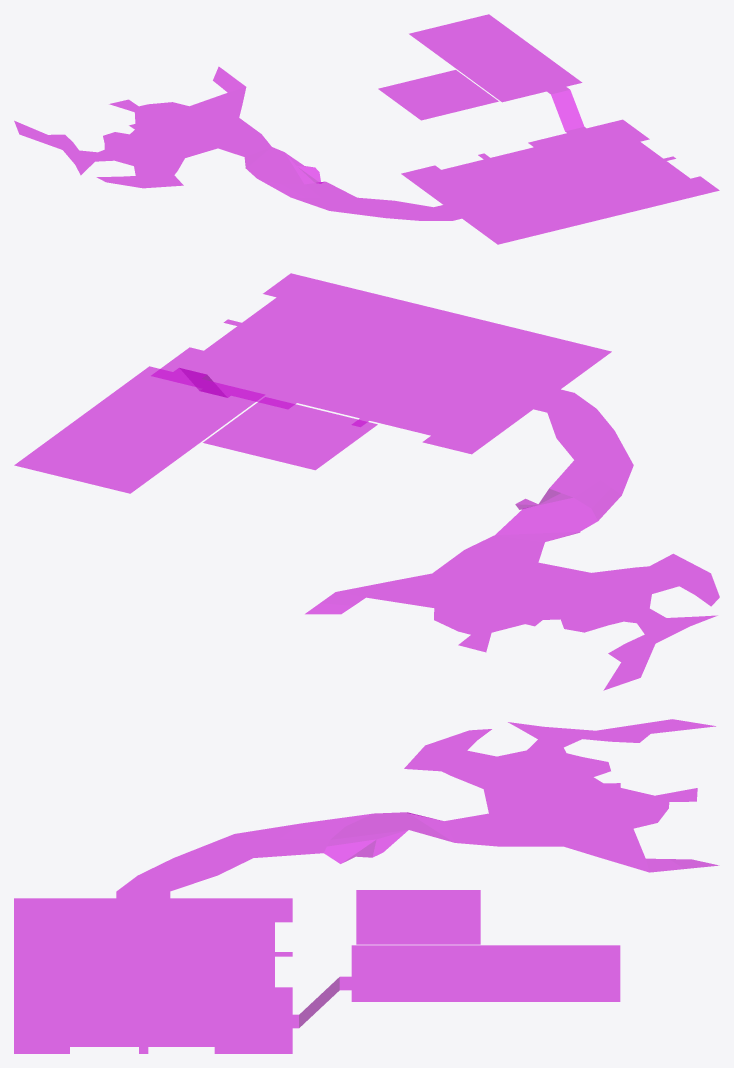
File: navmesh.glb
3 views of the same model, one above another, from view 1: azimuth 30°, elevation 25°; view 2: azimuth 150°, elevation 25°; view 3: azimuth 270°, elevation 25° (orthographic). The views are drawn at different scales.
Parts seen in each view (by area): view 1: NavMesh_Primary, NavMesh_Room1; view 2: NavMesh_Primary, NavMesh_Room1; view 3: NavMesh_Primary, NavMesh_Room1.
Boxes of the visible parts, bbox=[...] form: NavMesh_Primary: bbox=[14, 14, 719, 244]; NavMesh_Room1: bbox=[378, 70, 498, 120]; NavMesh_Primary: bbox=[14, 273, 719, 690]; NavMesh_Room1: bbox=[203, 397, 377, 469]; NavMesh_Primary: bbox=[14, 719, 718, 1053]; NavMesh_Room1: bbox=[356, 890, 480, 944].
Bounding box in the file's own units: 11.56 × 0.7852 × 10.45.
